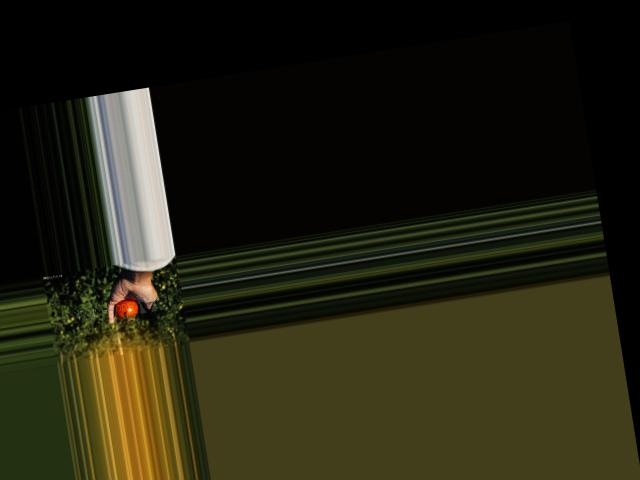tomato: (112, 298, 138, 322)
